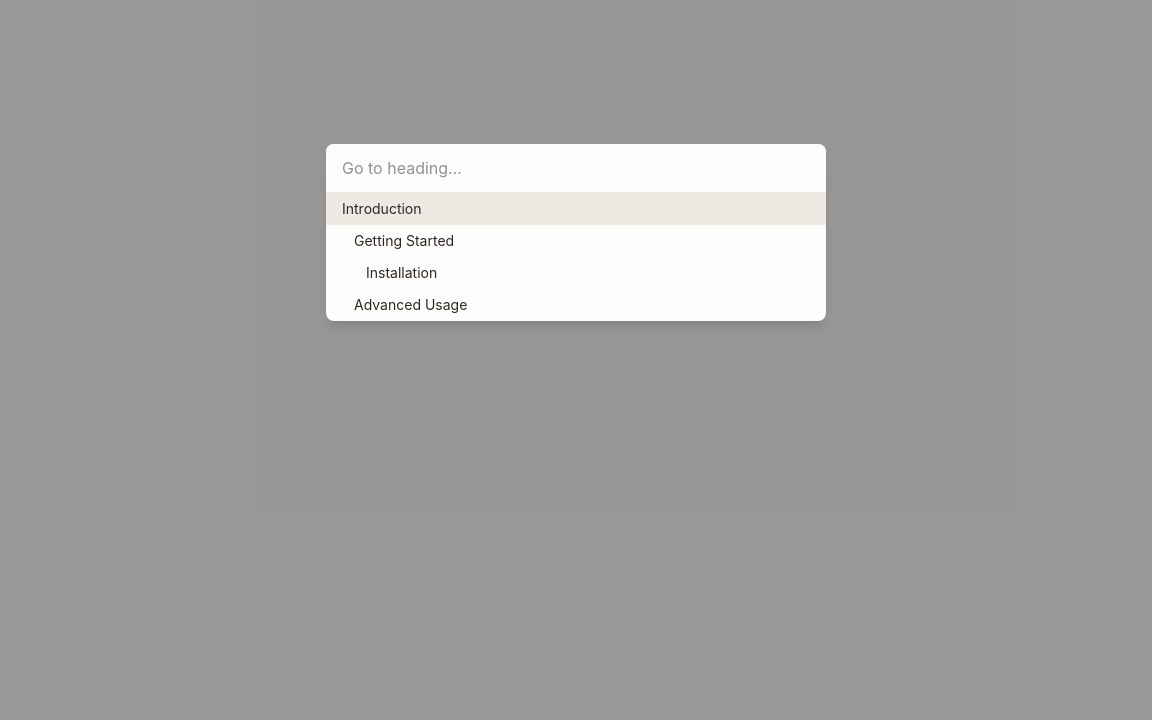
Scenario: HeadingQuickSwitcher › typing filters headings via fuzzy match
The image size is (1152, 720).
Type "instal" into the field with test id "quick-switcher-input" at (576, 168), box [326,144,826,193]
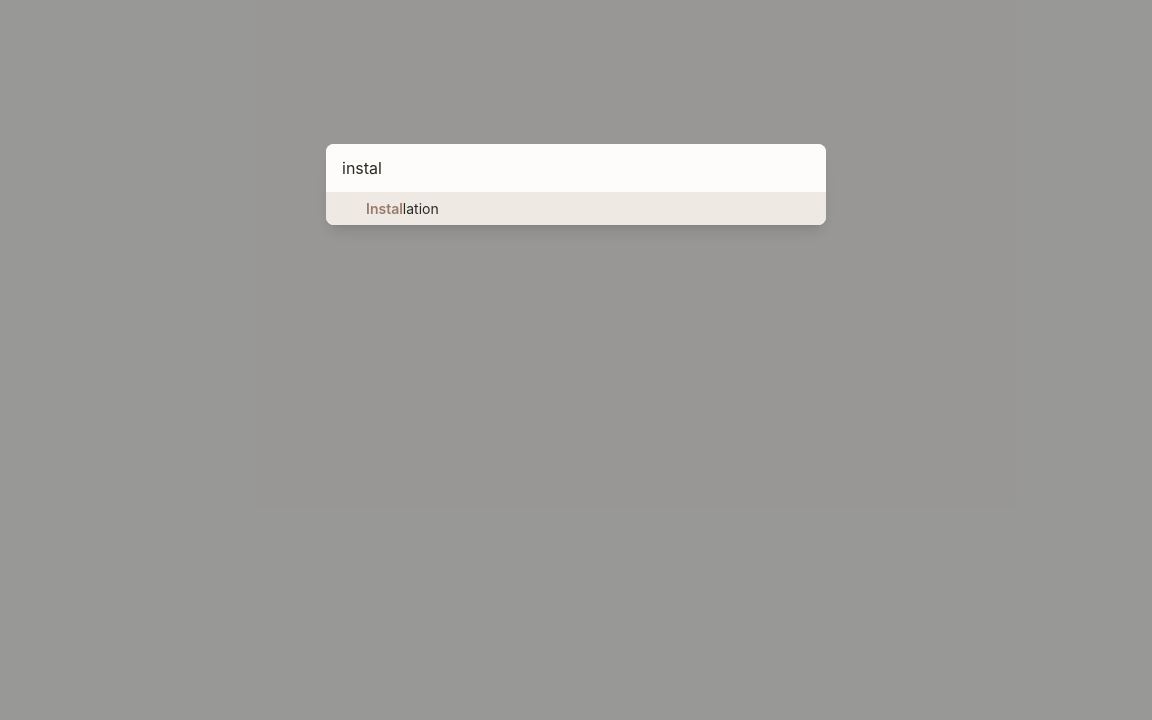
Expected: the element with test id "quick-switcher-item" reads "Installation", [326,193,826,225]
Now the number of elements with test id "quick-switcher-item" is 1, box [326,193,826,225]
